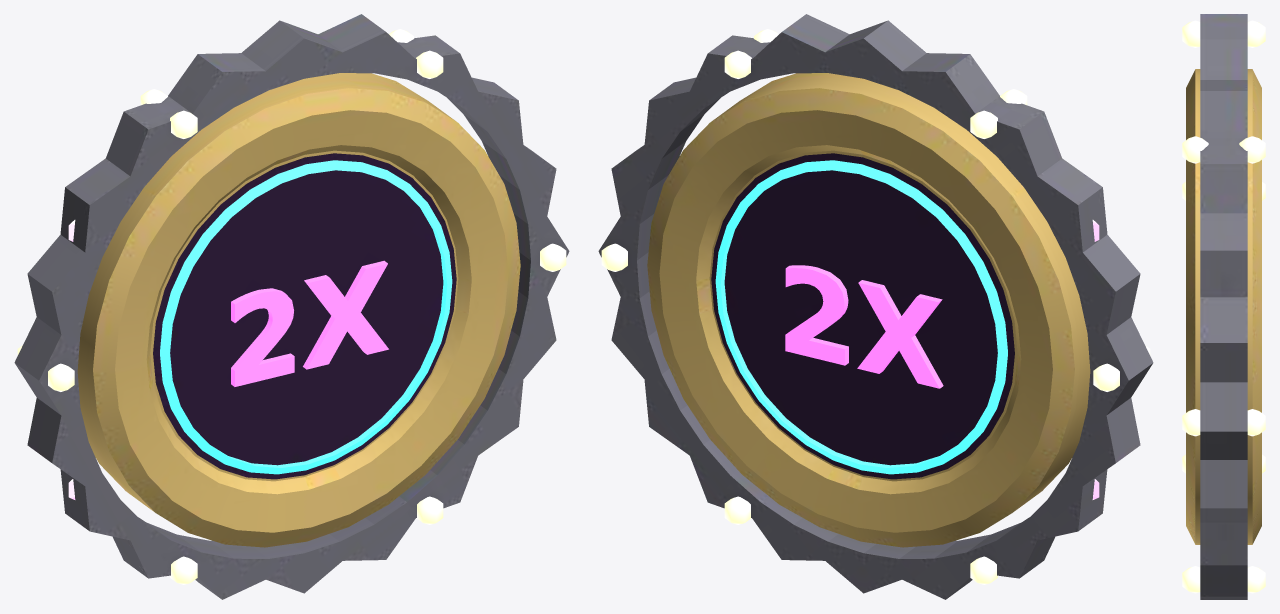
The model's file is doubler.glb.
The picture shows the model from 3 angles, left to right: view 1: azimuth 30°, elevation 25°; view 2: azimuth 150°, elevation 25°; view 3: azimuth 270°, elevation 25°; orthographic projection. The views are drawn at different scales.
Visible parts, largest first — view 1: body, gear_ring, mesh_bulbs_a; view 2: body, gear_ring, mesh_bulbs_a; view 3: gear_ring, body, mesh_bulbs_a.
Boxes of the visible parts, x1,y1,x2,y2 form: body: (77,73,520,547); gear_ring: (14,14,569,599); mesh_bulbs_a: (17,29,566,584); body: (647,73,1090,547); gear_ring: (598,14,1153,599); mesh_bulbs_a: (601,29,1150,584); gear_ring: (1200,14,1247,599); body: (1186,69,1261,544); mesh_bulbs_a: (1182,20,1265,593).
Bounding box in the file's own units: 1.09 × 1.09 × 0.1544.
Materials: 5 (1 with a texture image).
